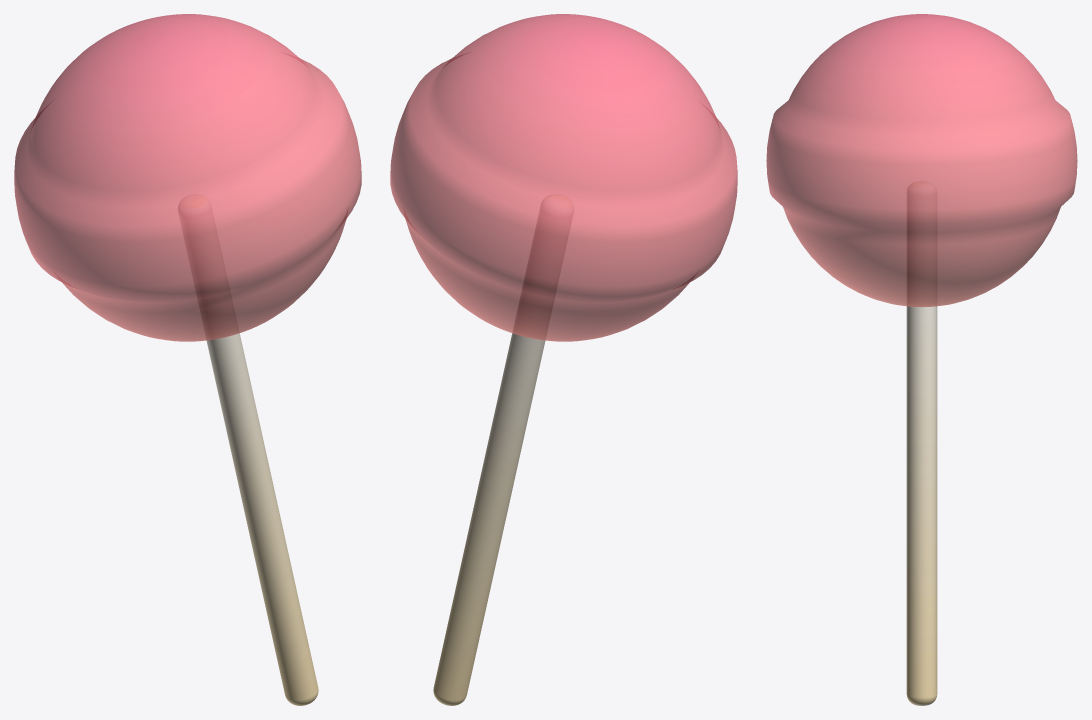
Rendered from asset.glb.
The picture shows the model from 3 angles, left to right: view 1: azimuth 30°, elevation 25°; view 2: azimuth 150°, elevation 25°; view 3: azimuth 270°, elevation 25°; orthographic projection. The views are drawn at different scales.
Visible parts, largest first — view 1: Sphere - baked, Cylinder; view 2: Sphere - baked, Cylinder; view 3: Sphere - baked, Cylinder.
Boxes of the visible parts, x1=… form: Sphere - baked: x1=14, y1=14, x2=361, y2=341; Cylinder: x1=178, y1=194, x2=318, y2=705; Sphere - baked: x1=390, y1=14, x2=737, y2=341; Cylinder: x1=433, y1=194, x2=573, y2=705; Sphere - baked: x1=766, y1=14, x2=1077, y2=307; Cylinder: x1=906, y1=181, x2=937, y2=705.
Size of the model in its own units: 0.0653 by 0.1454 by 0.0653.
Materials: 2 (2 with a texture image).
